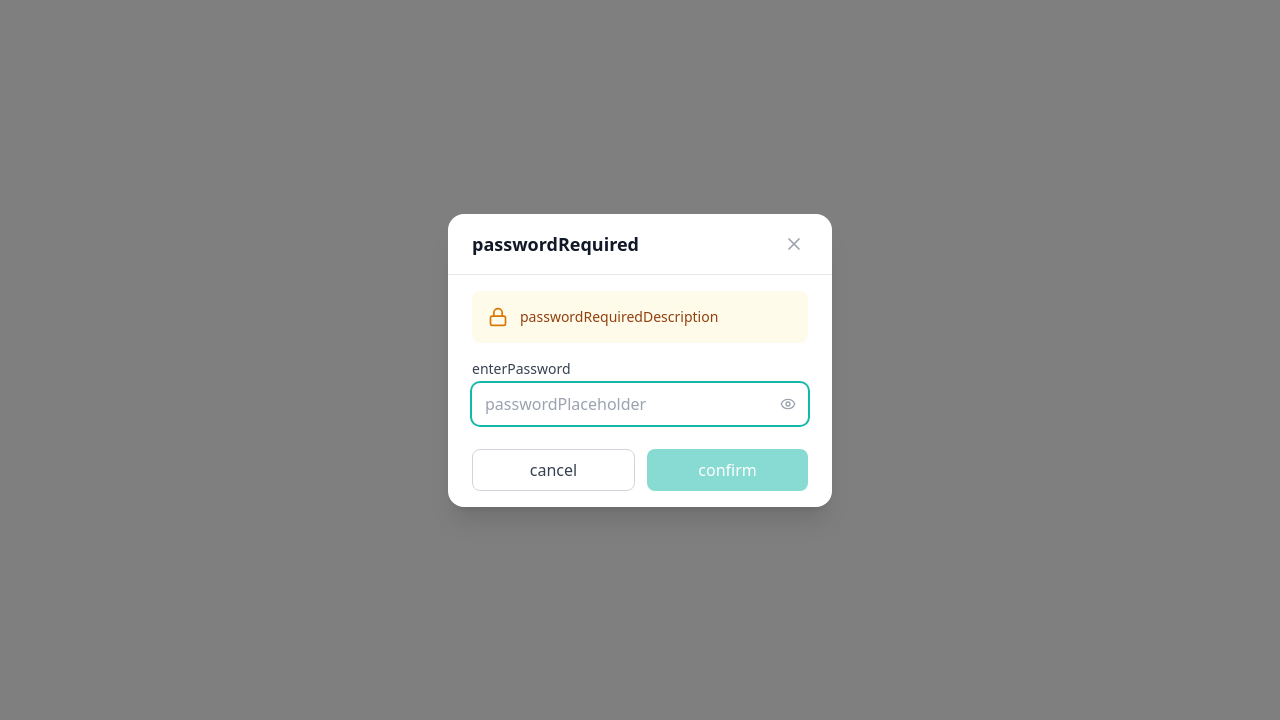
Test case: PasswordModal › 入力 › 入力すると確認ボタンが押せる
The width and height of the screenshot is (1280, 720).
Step 1. Type "secret" into the password field labelled "enterPassword" → (640, 404), box [472,382,808,424]
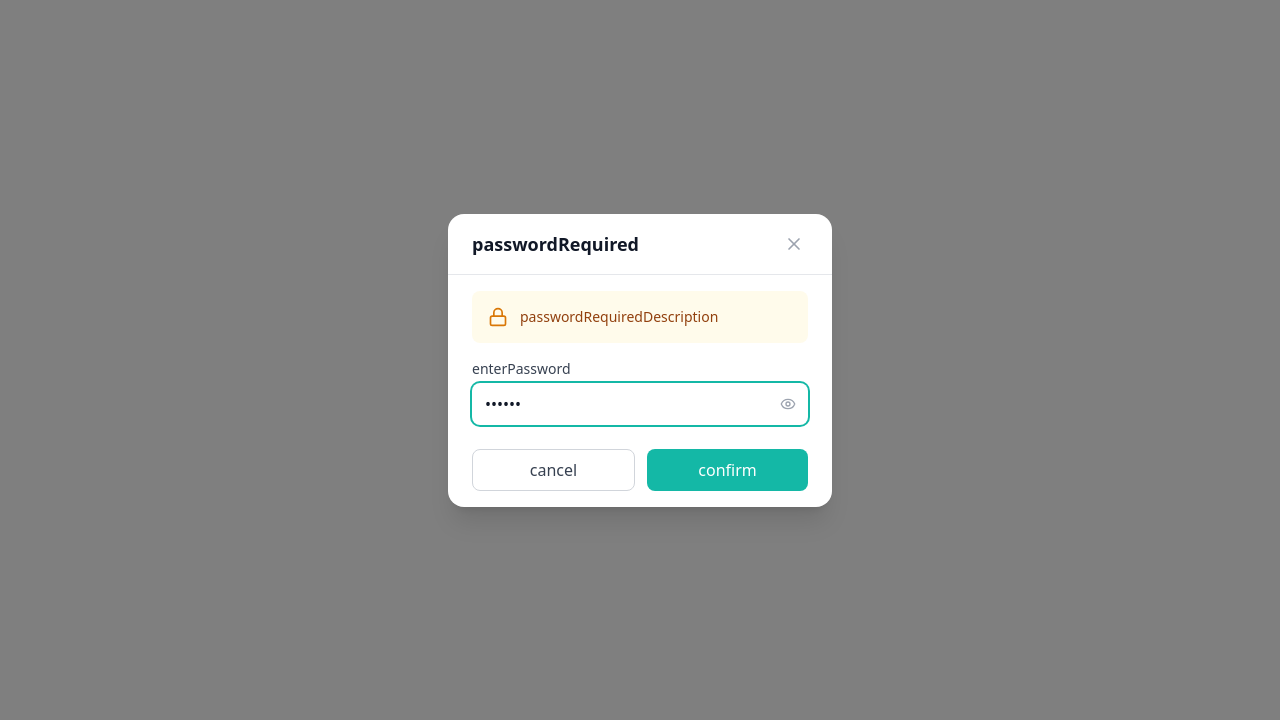
Expected: the button with test id "password-modal-confirm" is enabled, [647,448,808,490]
